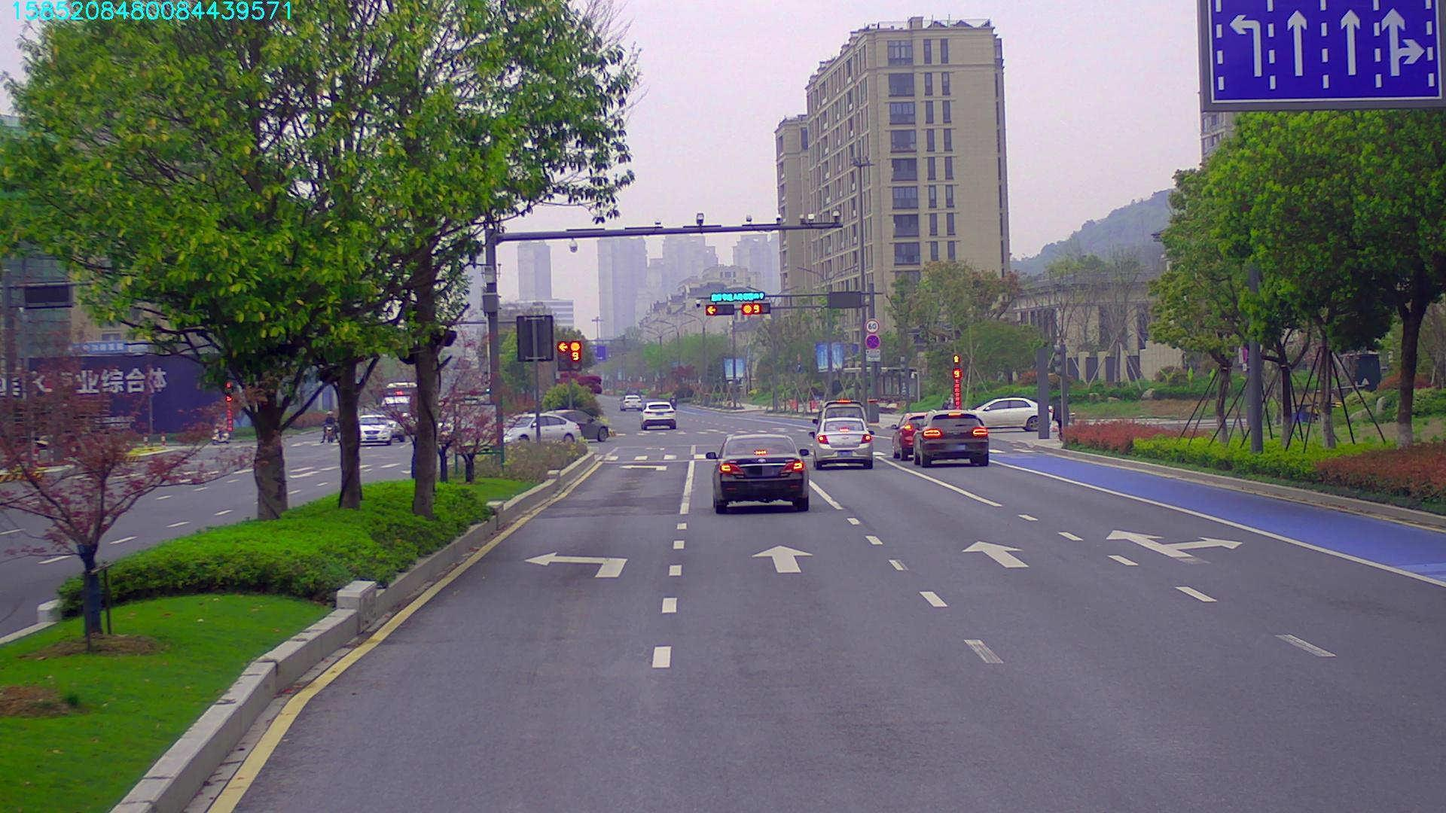red: (744, 303, 776, 315), (704, 303, 734, 315)
wait_on: (709, 288, 767, 301)
